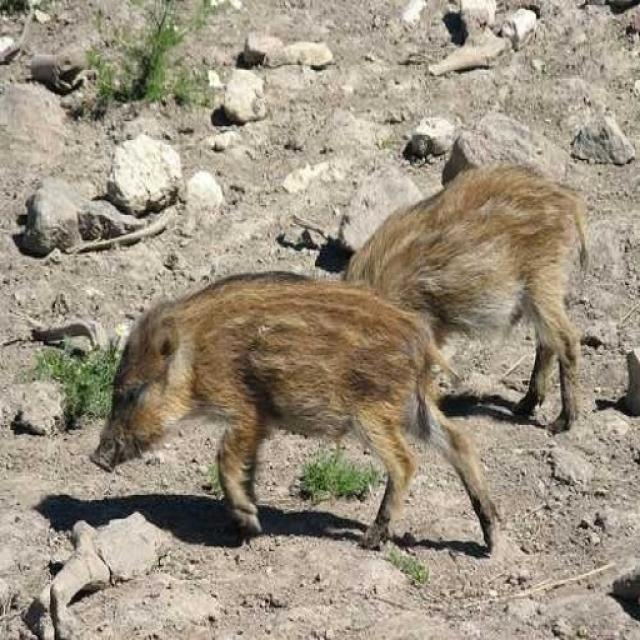pig: (65, 250, 489, 562), (329, 116, 593, 413)
